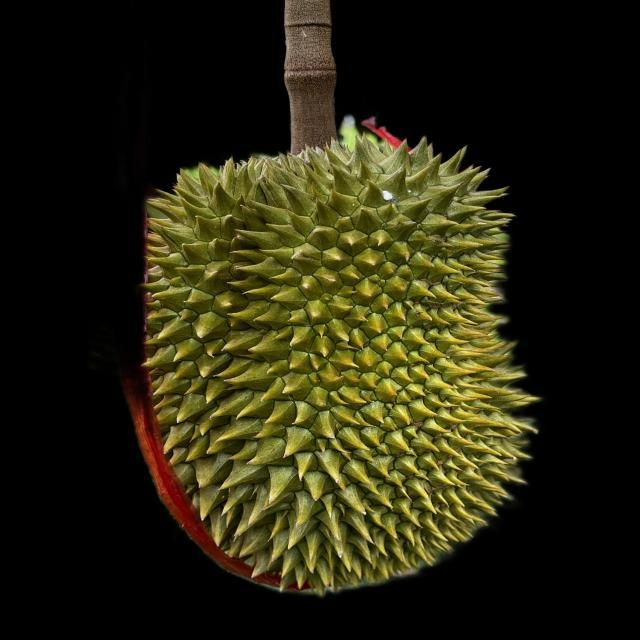immature: (130, 125, 538, 583)
